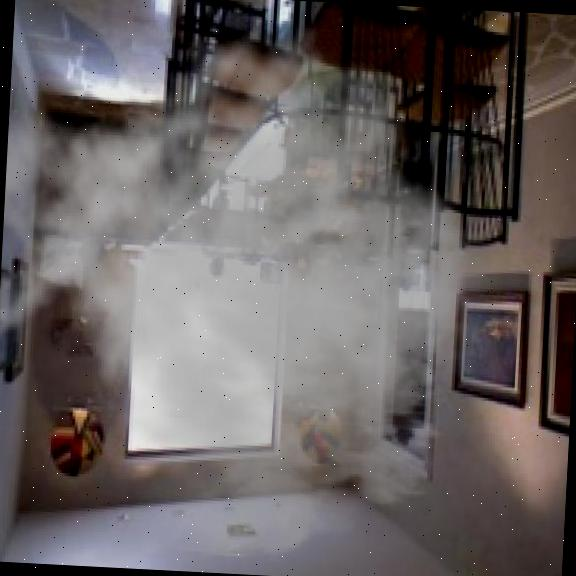smoke: (0, 3, 530, 573)
